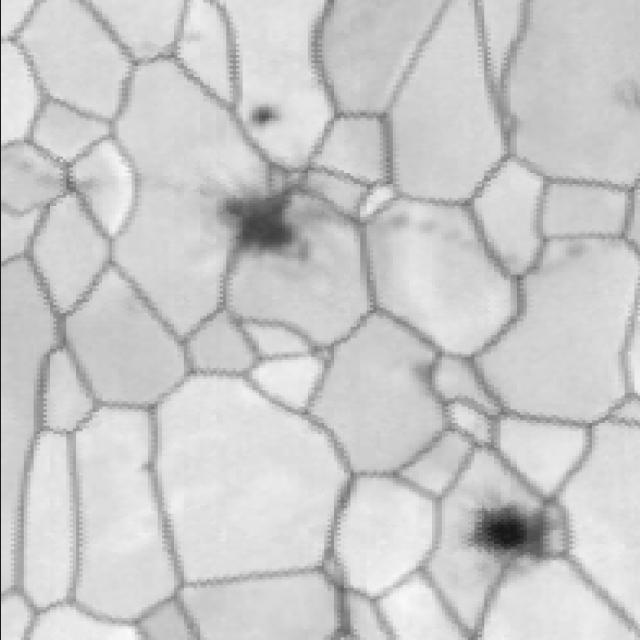good_void: (208, 175, 352, 262), (458, 497, 560, 563), (389, 338, 462, 405), (45, 151, 97, 204), (551, 236, 596, 268), (607, 71, 640, 112), (126, 448, 168, 480), (245, 101, 279, 131)
